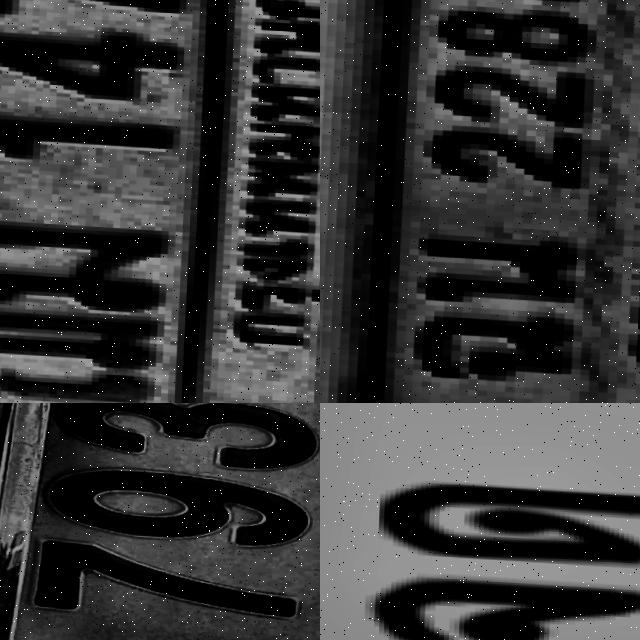license-plate: (0, 0, 320, 403), (354, 0, 640, 403), (0, 403, 320, 640), (320, 403, 640, 640)
